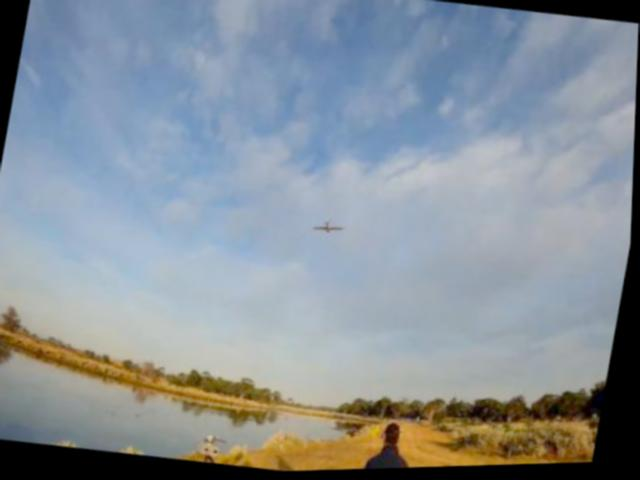uav: (310, 217, 349, 242)
